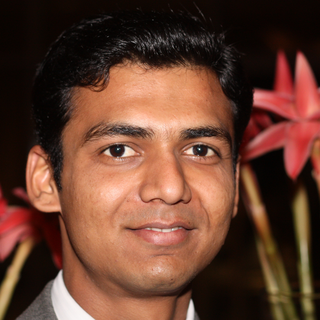eye: (95, 140, 144, 165), (180, 139, 224, 165)
